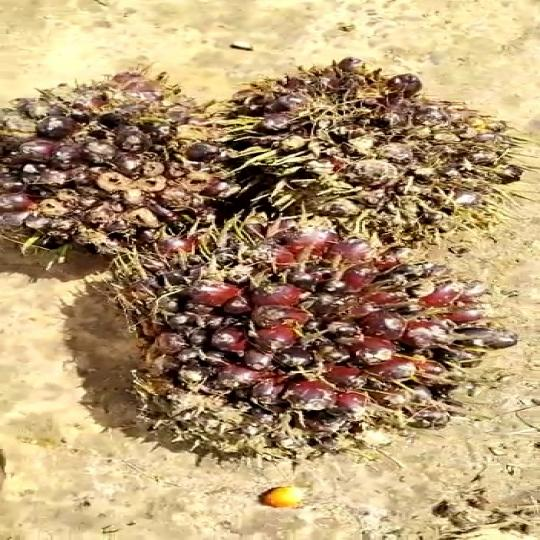kurang masak: (84, 218, 520, 476), (231, 56, 528, 250), (0, 65, 244, 250)
